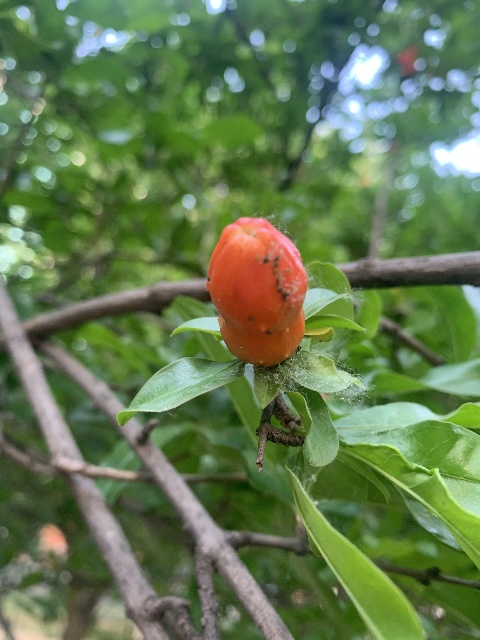bud: (205, 216, 308, 366)
